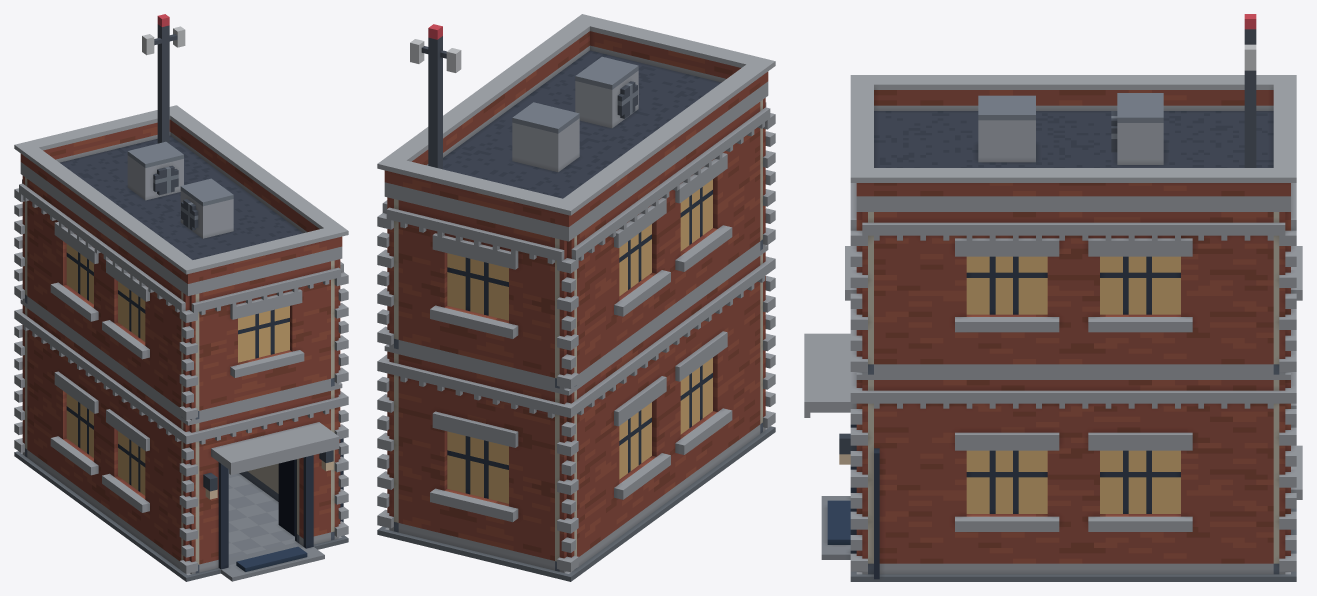
File: lab_e2_l3.glb
3 renders of one model, left to right at view 1: azimuth 30°, elevation 25°; view 2: azimuth 150°, elevation 25°; view 3: azimuth 270°, elevation 25°, orthographic. The views are drawn at different scales.
Visible parts, largest first — view 1: CutUpper, Base, CutNX, CutPZ, CutNZ; view 2: CutUpper, CutNZ, CutNX, Base, CutPZ; view 3: CutUpper, CutPX, Base, CutPZ, CutNZ.
Part boxes in pixels (x1,y1,x2,y2): CutUpper: [14, 14, 348, 425]; Base: [14, 420, 348, 581]; CutNX: [19, 308, 185, 532]; CutPZ: [179, 388, 348, 541]; CutNZ: [14, 305, 27, 420]; CutUpper: [377, 14, 775, 395]; CutNZ: [377, 351, 578, 533]; CutNX: [572, 256, 770, 522]; Base: [377, 389, 775, 581]; CutPZ: [760, 252, 775, 390]; CutUpper: [845, 14, 1302, 379]; CutPX: [862, 380, 1285, 531]; Base: [821, 496, 1296, 581]; CutPZ: [804, 309, 879, 531]; CutNZ: [1273, 309, 1302, 529].
Bounding box in the file's own units: 4.4 × 10.4 × 8.6.
